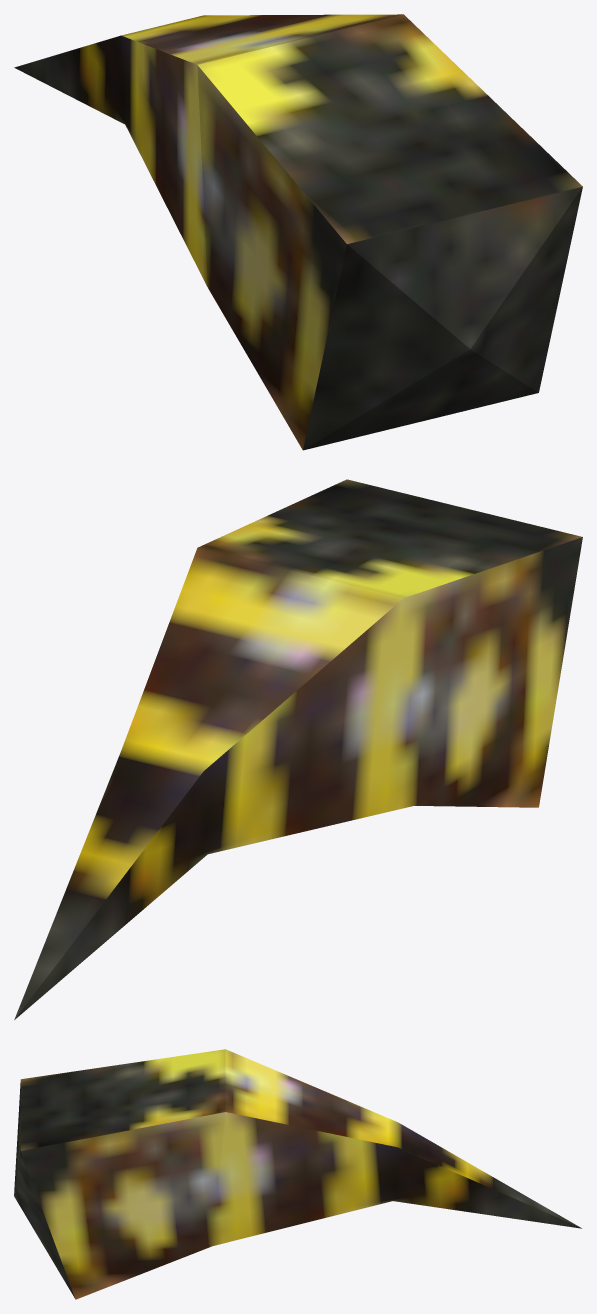
Rendered from vespidstinger.obj.
3 renders of one model, top to bottom at view 1: azimuth 30°, elevation 25°; view 2: azimuth 150°, elevation 25°; view 3: azimuth 270°, elevation 25°, orthographic. The views are drawn at different scales.
Visible parts, largest first — view 1: Base; view 2: Base; view 3: Base.
Part boxes in pixels (x1=…): Base: x1=14, y1=14, x2=582, y2=450; Base: x1=14, y1=479, x2=582, y2=1019; Base: x1=14, y1=1049, x2=581, y2=1299.
Size of the model in its own units: 0.24 by 0.2857 by 0.8038.
1 material, 1 textured.
